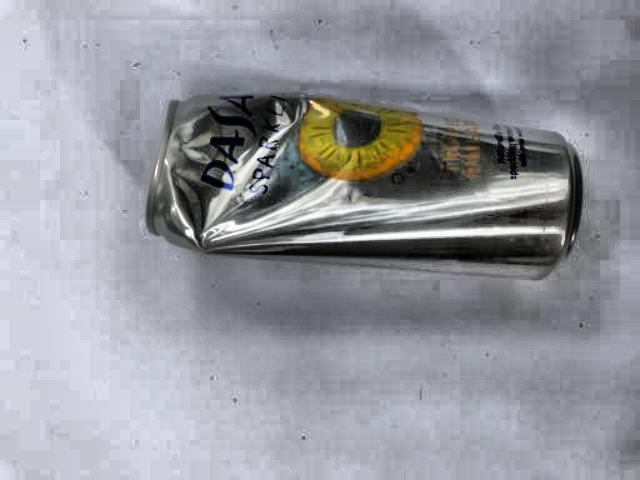Bottles: (142, 78, 592, 271)
